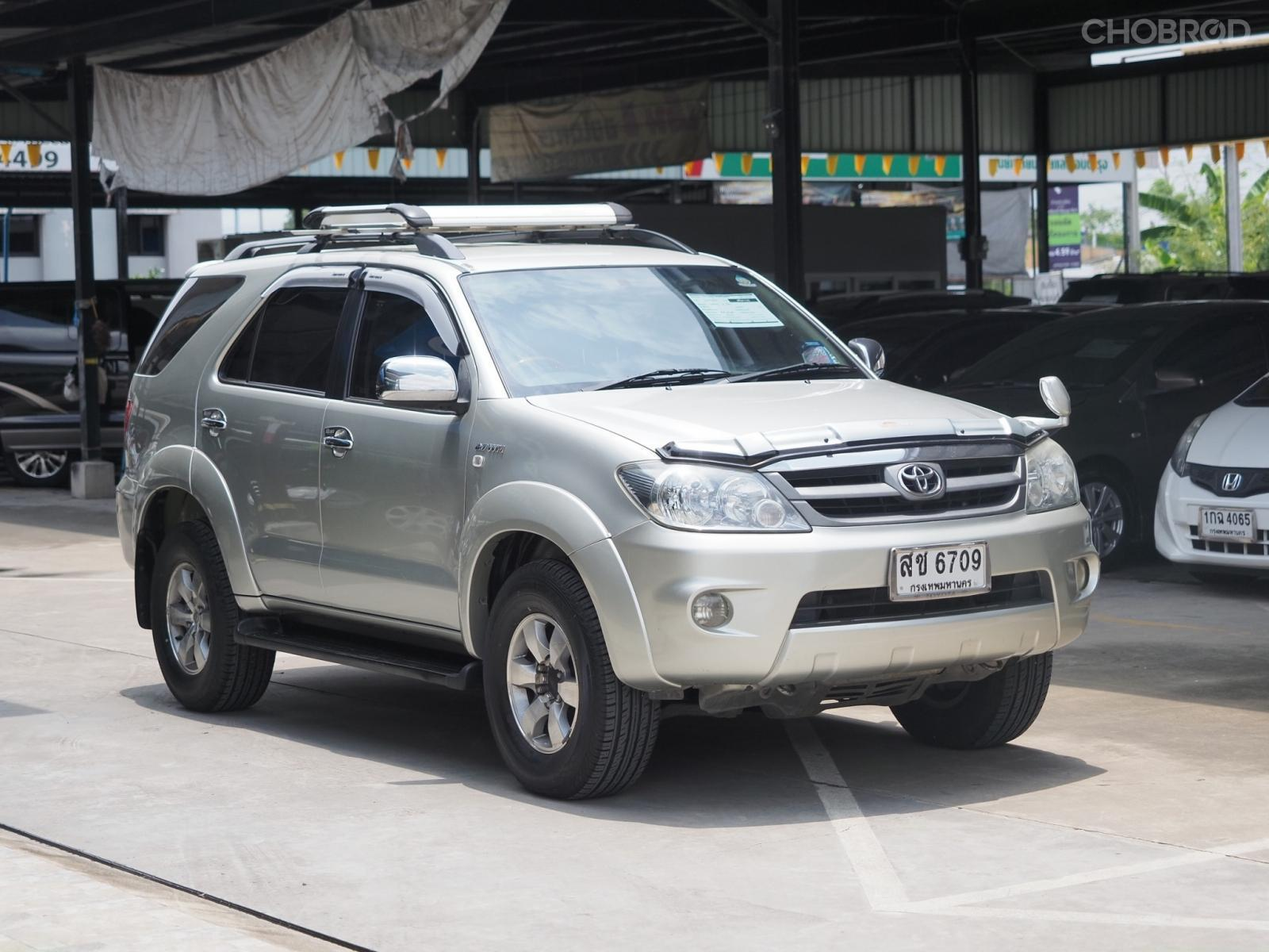license-plate: (884, 537, 997, 608), (1197, 501, 1257, 544)
